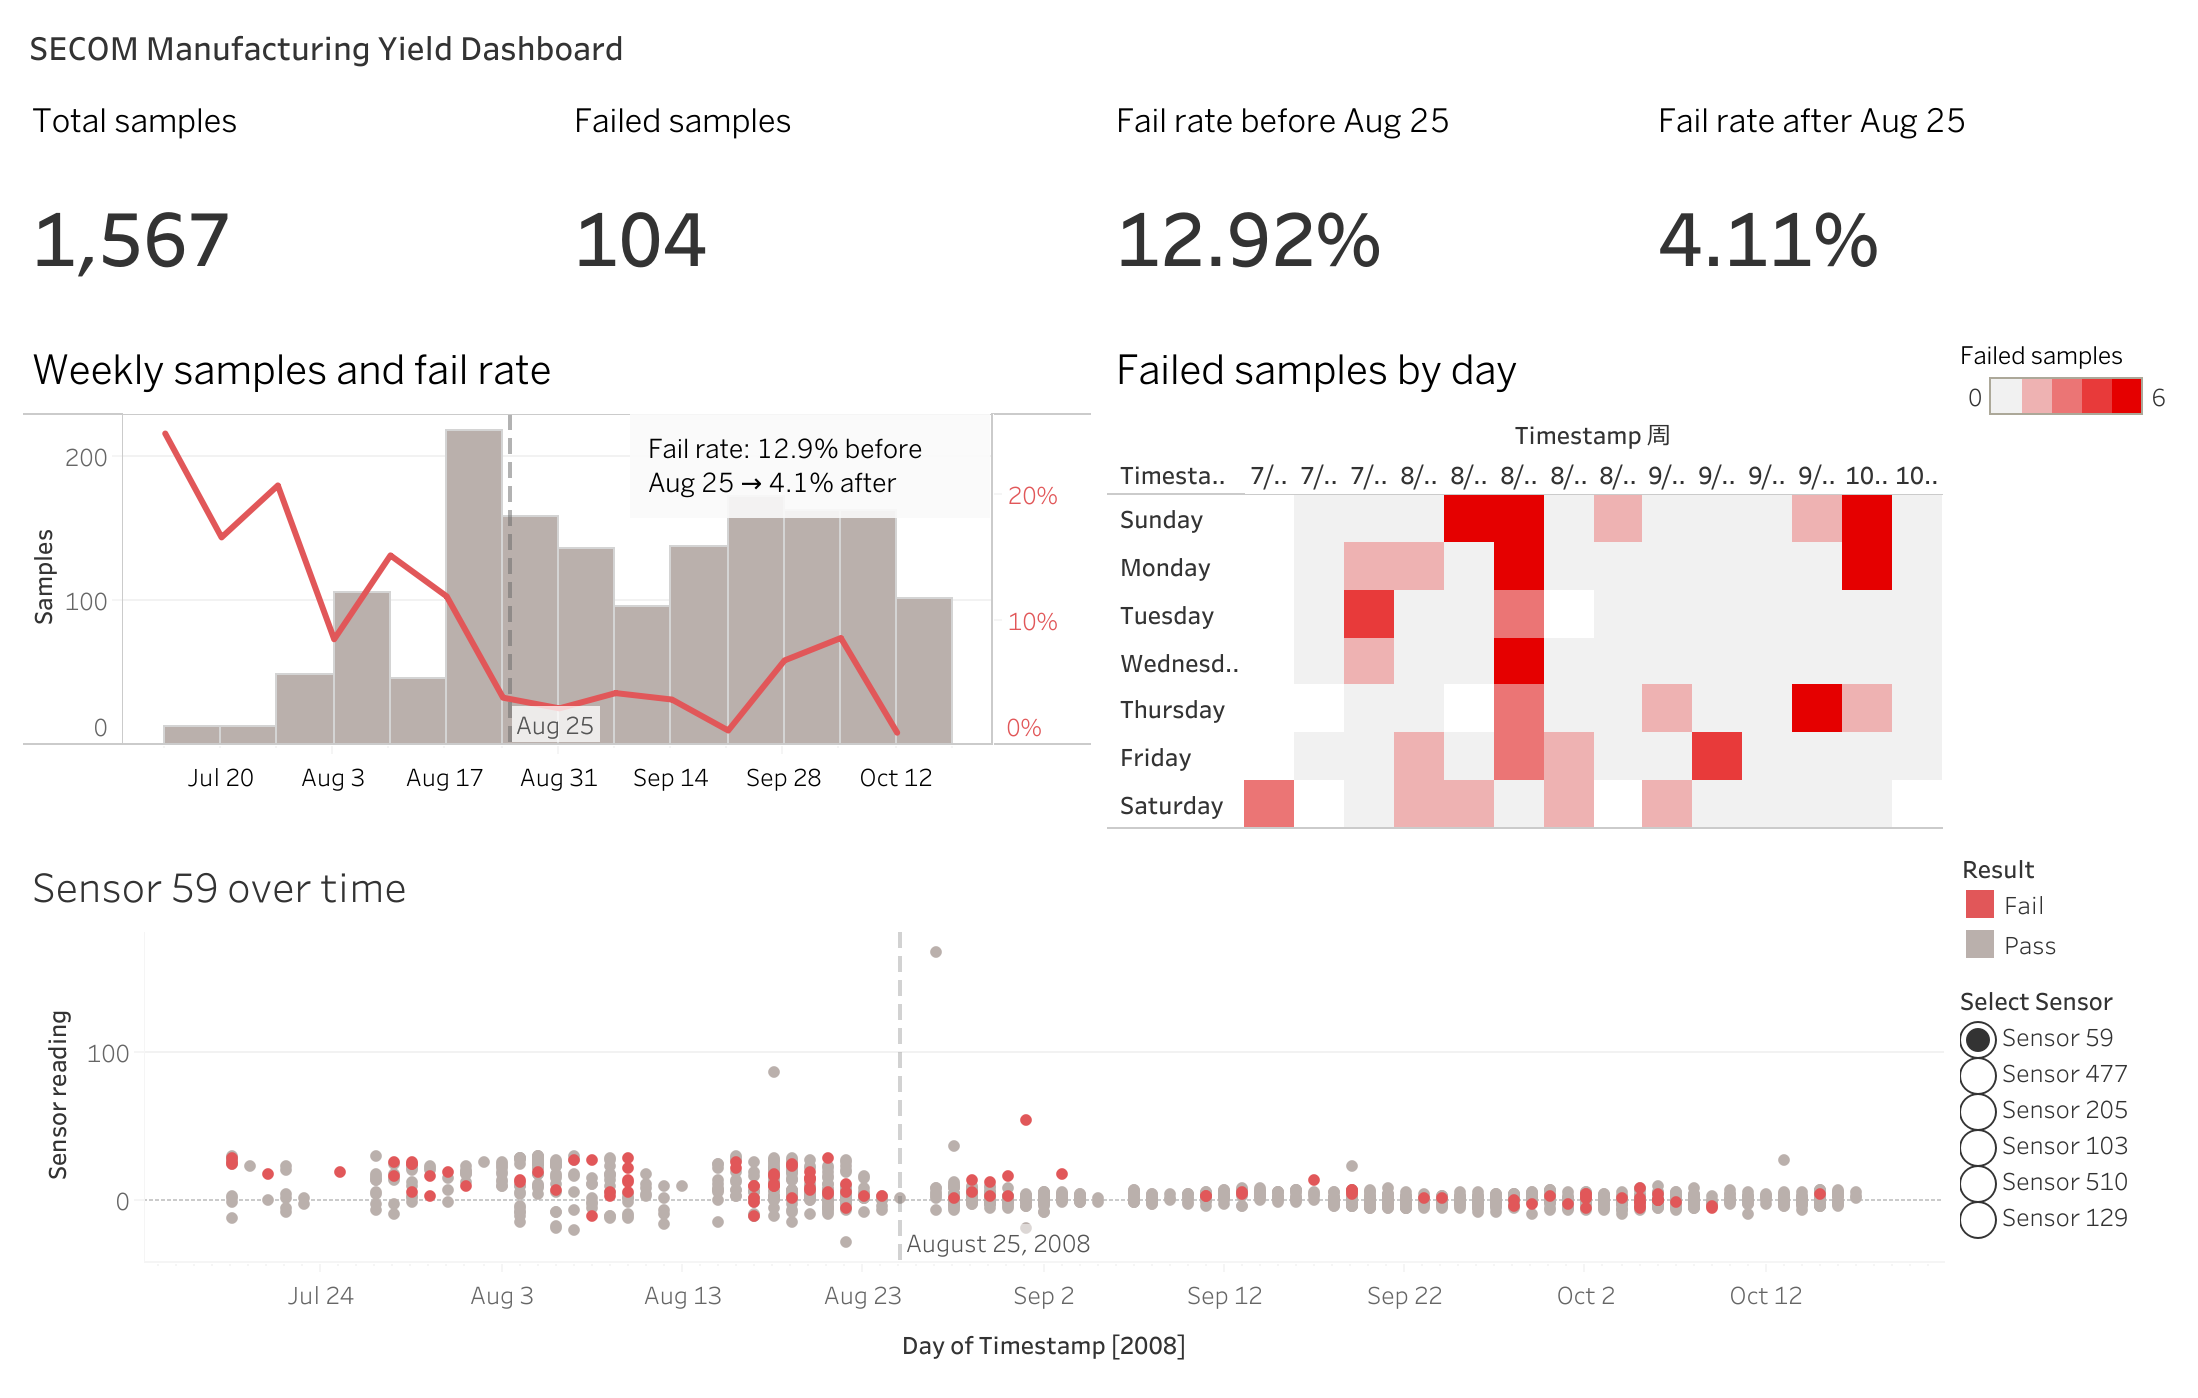

The page's visual inventory and layout, read from the dashboard file:
{"tool":"tableau","page":{"name":"Dashboard 1","canvas":[1100,700],"ordinal":0},"visuals":[{"type":"worksheet","title":"KPI Samples","mark":"Automatic","box":[8,8,132,116]},{"type":"worksheet","title":"KPI Yield","mark":"Automatic","box":[140,8,168,116]},{"type":"worksheet","title":"Fail rate before Aug 25","mark":"Automatic","box":[308,8,302,116]},{"type":"worksheet","title":"Fail rate after Aug 25","mark":"Automatic","box":[610,8,322,116]},{"type":"worksheet","title":"Weekly samples and fail rate","mark":"Bar","rows":["secom_dashboard.csv_9F757D5ECF024924A121AB981D7BF4D6","is_fail"],"cols":["timestamp"],"box":[8,124,515,304]},{"type":"worksheet","title":"Fails by Day","mark":"Square","rows":["timestamp"],"cols":["timestamp"],"box":[523,124,409,304]},{"type":"legend","title":"Fails by Day","param":"[federated.0ie82gv14ce8me18jh0ix16zl7qw].[sum:is_fail:qk]","box":[932,363,160,65]},{"type":"worksheet","title":"Sensor Over Time","mark":"Circle","rows":["Calculation_3334872861528066"],"cols":["timestamp"],"box":[8,428,924,264]},{"type":"parameter","param":"[Parameters].[Parameter 3334872860811264]","box":[932,428,160,148]}]}

Visuals, with their boxes in screenshot pixels (x1, y1, x2, y2), scaled from the page's 1100x700 canvas onto the 2198x1398 screenshot:
"KPI Samples" worksheet: select_region(16, 16, 280, 248)
"KPI Yield" worksheet: select_region(280, 16, 615, 248)
"Fail rate before Aug 25" worksheet: select_region(615, 16, 1219, 248)
"Fail rate after Aug 25" worksheet: select_region(1219, 16, 1862, 248)
"Weekly samples and fail rate" worksheet (Bar marks): select_region(16, 248, 1045, 855)
"Fails by Day" worksheet (Square marks): select_region(1045, 248, 1862, 855)
"Fails by Day" legend: select_region(1862, 725, 2182, 855)
"Sensor Over Time" worksheet (Circle marks): select_region(16, 855, 1862, 1382)
parameter: select_region(1862, 855, 2182, 1150)
